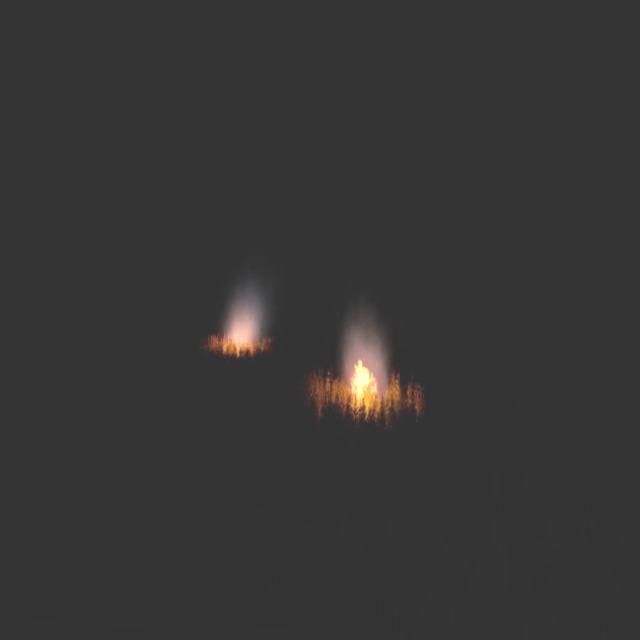fire: (349, 354, 382, 398)
smoke: (339, 313, 394, 393), (217, 286, 267, 348)
